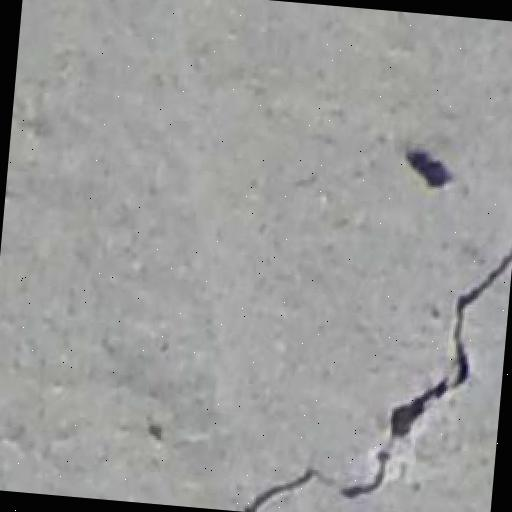spalling: (233, 236, 503, 509)
